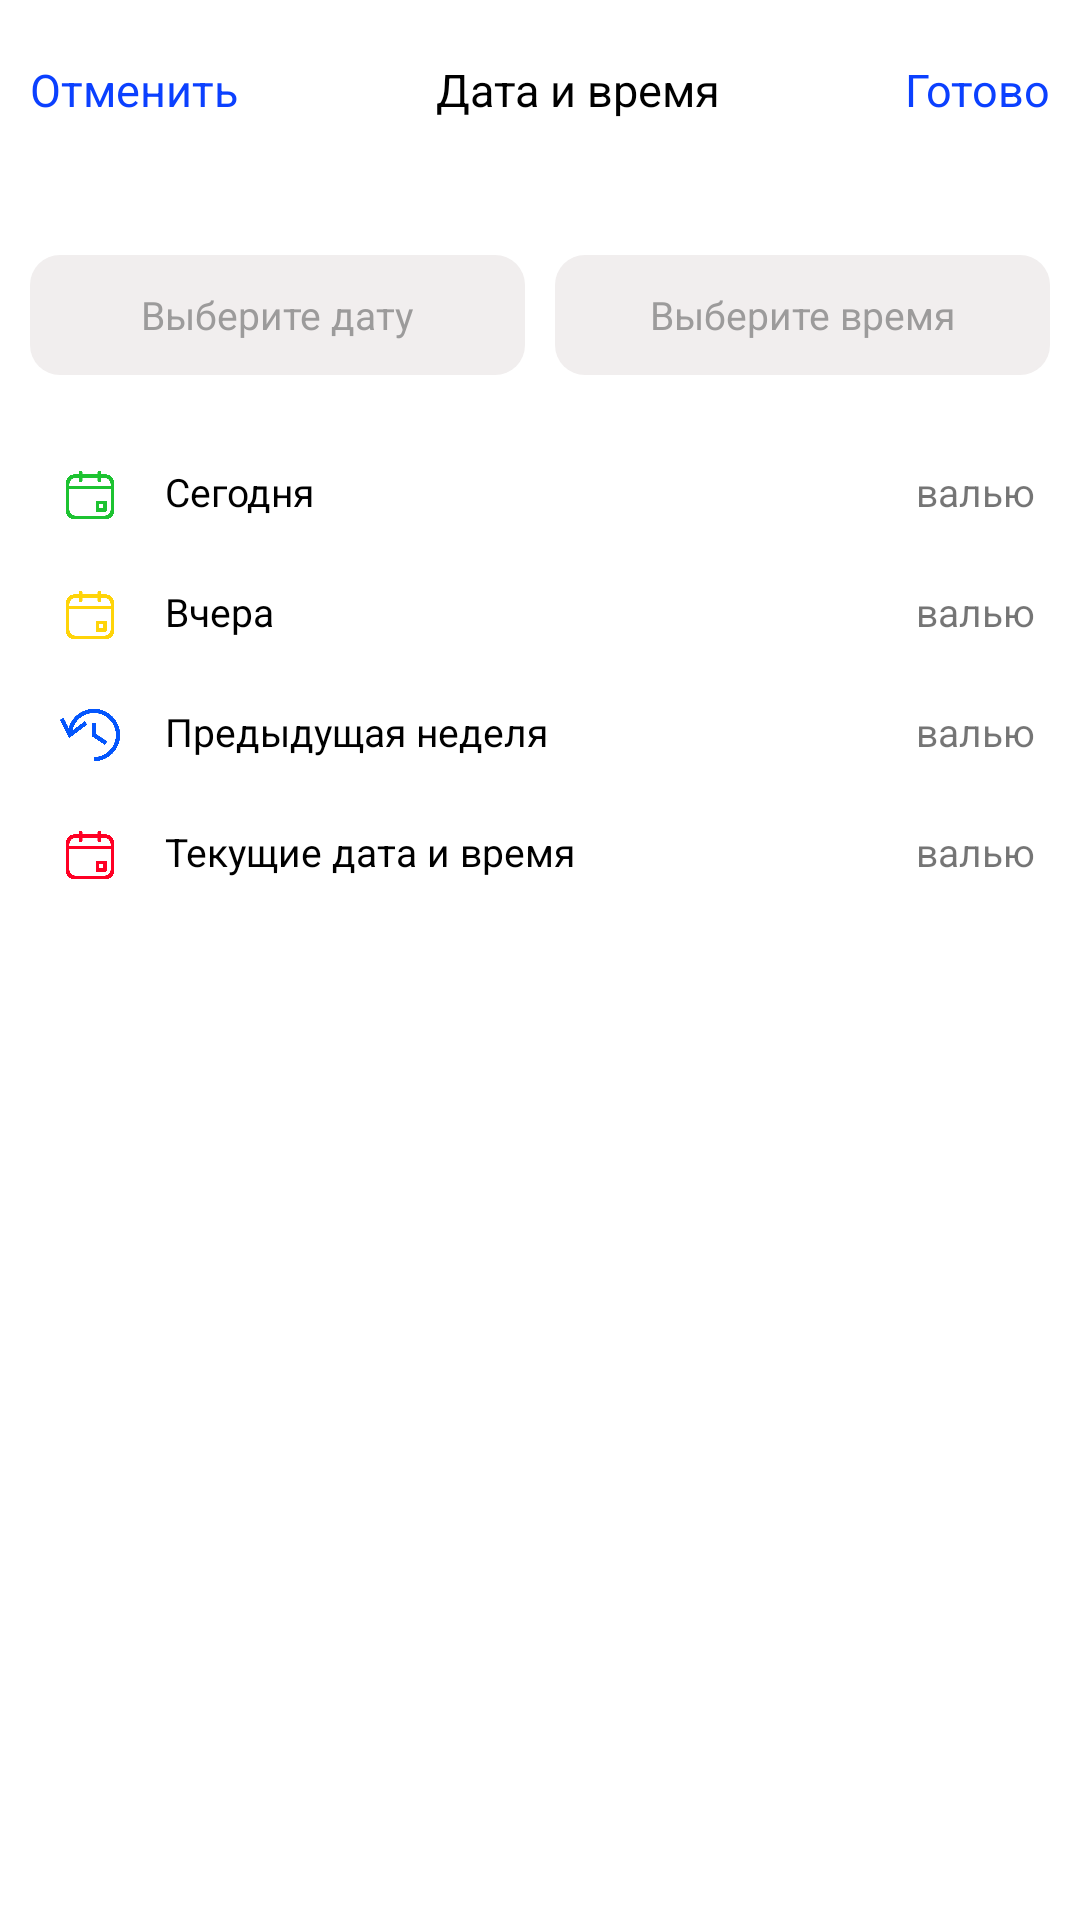

Where icons sit on this 1080x1920 app screen, as bbox(x1, y1, x2, y2):
calendar: bbox(66, 471, 114, 519), bbox(66, 591, 114, 639), bbox(66, 831, 114, 879)
